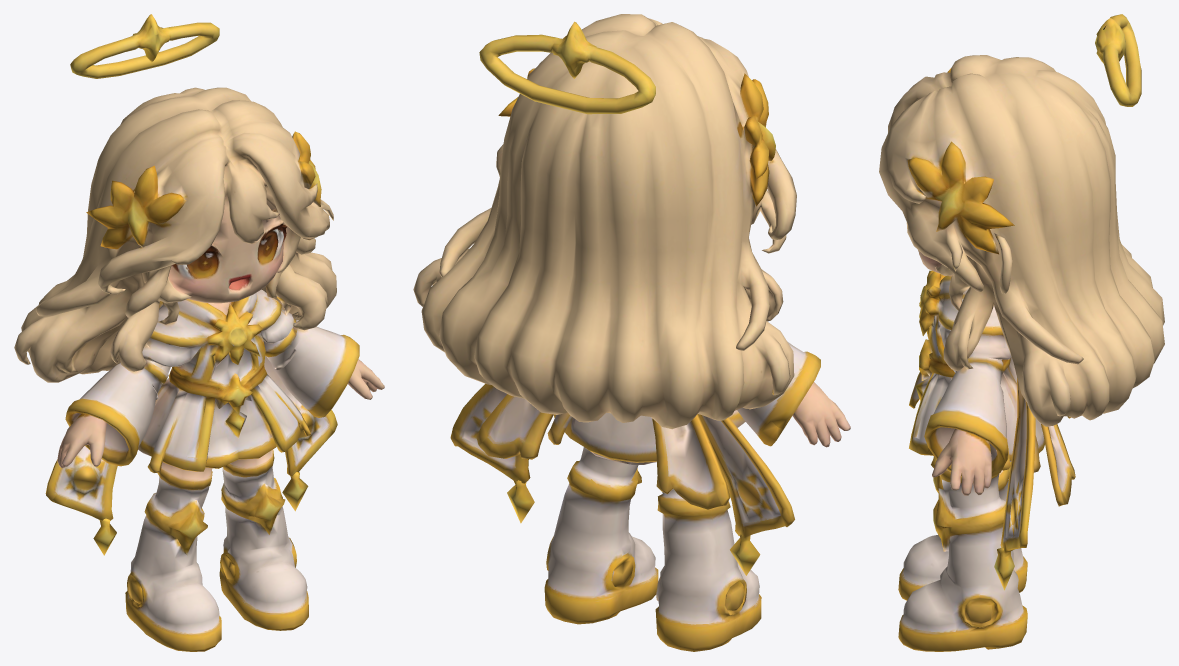
The model's file is Costume_HaloMageF.glb.
The picture shows the model from 3 angles, left to right: view 1: azimuth 30°, elevation 25°; view 2: azimuth 150°, elevation 25°; view 3: azimuth 270°, elevation 25°; orthographic projection. The views are drawn at different scales.
Visible parts, largest first — view 1: Body, Head; view 2: Body, Head; view 3: Head, Body.
Boxes of the visible parts, bbox=[...] form: Body: bbox=[14, 252, 384, 651]; Head: bbox=[41, 14, 333, 337]; Body: bbox=[413, 243, 850, 651]; Head: bbox=[440, 14, 796, 347]; Head: bbox=[879, 14, 1143, 356]; Body: bbox=[898, 245, 1164, 651].
Size of the model in its own units: 0.5915 by 0.9781 by 0.423.
2 materials, 2 textured.
